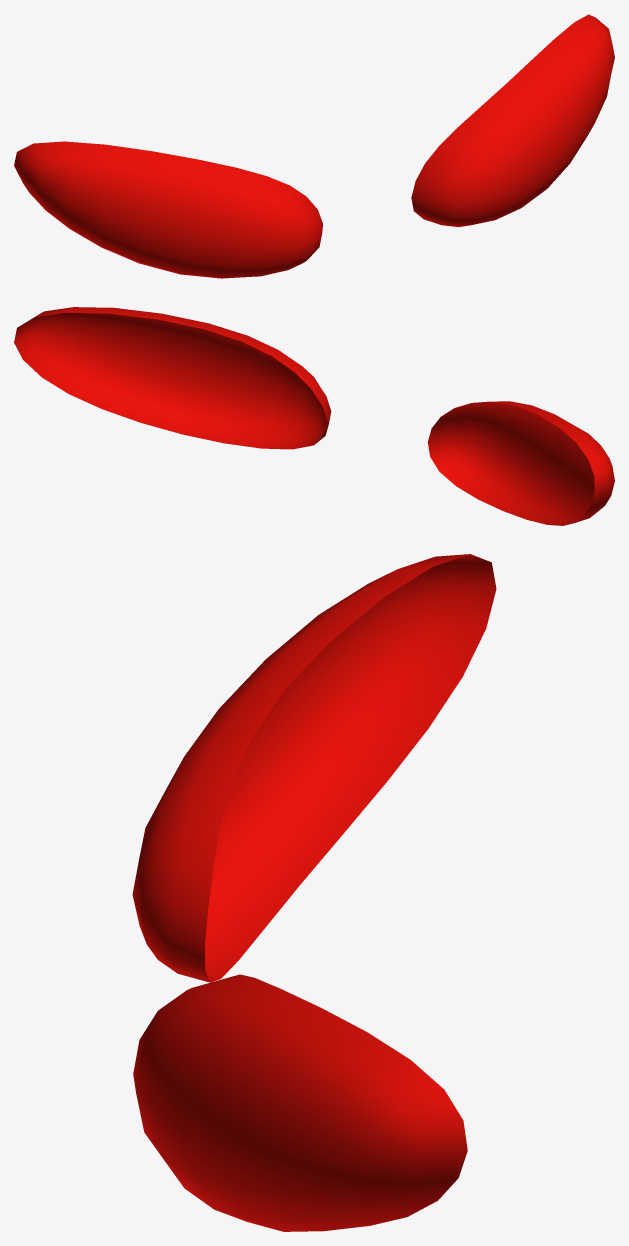
File: eyes_dop.fbx
3 views of the same model, one above another, from view 1: azimuth 30°, elevation 25°; view 2: azimuth 150°, elevation 25°; view 3: azimuth 270°, elevation 25° (orthographic). The views are drawn at different scales.
Parts seen in each view (by area): view 1: eyes_dop; view 2: eyes_dop; view 3: eyes_dop.
Part boxes in pixels (<box>): eyes_dop: <box>14,14,614,278</box>; eyes_dop: <box>14,307,614,525</box>; eyes_dop: <box>132,554,496,1231</box>.
Size of the model in its own units: 1.21 by 0.2517 by 0.3291.
